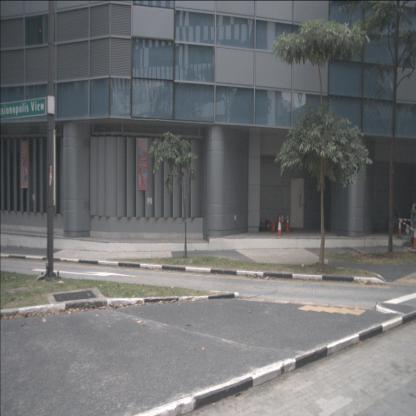cone: (276, 216, 283, 236), (396, 219, 402, 239), (285, 215, 290, 232), (412, 227, 415, 250), (280, 214, 284, 231)
